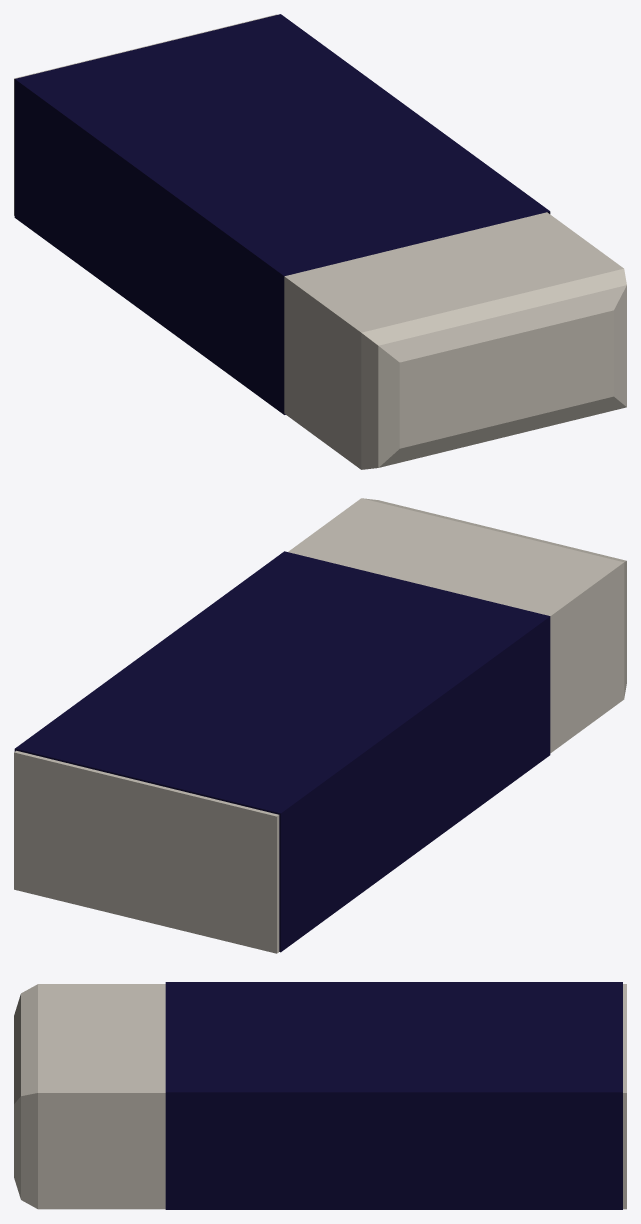
File: Eraser.fbx
3 renders of one model, top to bottom at view 1: azimuth 30°, elevation 25°; view 2: azimuth 150°, elevation 25°; view 3: azimuth 270°, elevation 25°, orthographic. The views are drawn at different scales.
Parts seen in each view (by area): view 1: Cube; view 2: Cube; view 3: Cube.
Boxes of the visible parts, box(x1,y1,x2,y2) form: Cube: box(14, 14, 626, 469); Cube: box(14, 498, 626, 953); Cube: box(14, 982, 626, 1209).
Bounding box in the file's own units: 2.09 × 1.04 × 4.92.
